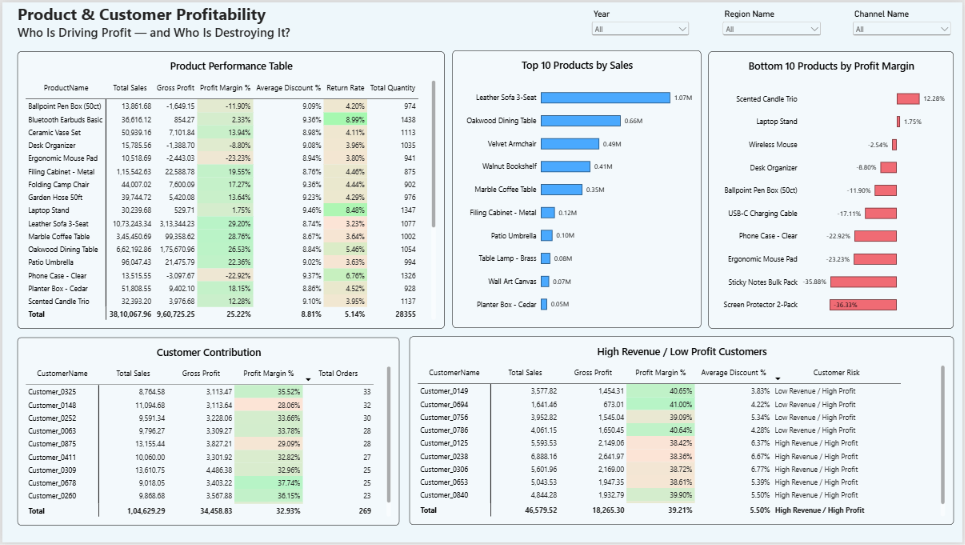

The dashboard page shown, as its layout file describes it:
{"tool":"powerbi","page":{"name":"Page 3","canvas":[1920,1080],"ordinal":2},"visuals":[{"type":"pivotTable","title":"Product Performance Table","fields":{"Rows":["Dim_Product.ProductName"],"Values":["_measure.Total Sales","_measure.Gross Profit","_measure.Profit Margin %","_measure.Average Discount %","_measure.Return Rate","_measure.Total Quantity"]},"box":[30,98,854,554],"z":0},{"type":"barChart","title":"Bottom 10 Products by Profit Margin","fields":{"Category":["Dim_Product.ProductName"],"Y":["_measure.Profit Margin %"]},"box":[1412,98,490,554],"z":1000},{"type":"barChart","title":"Top 10 Products by Sales","fields":{"Category":["Dim_Product.ProductName"],"Y":["_measure.Total Sales"]},"box":[900,96,497.5,555],"z":2000},{"type":"pivotTable","title":"Customer Contribution","fields":{"Rows":["Dim_Customer.CustomerName"],"Values":["_measure.Total Sales","_measure.Gross Profit","_measure.Profit Margin %","_measure.Total Orders"]},"box":[30,670,764.3,375.7],"z":3000},{"type":"pivotTable","title":"High Revenue / Low Profit Customers","fields":{"Rows":["Dim_Customer.CustomerName"],"Values":["_measure.Total Sales","_measure.Gross Profit","_measure.Profit Margin %","_measure.Average Discount %","_measure.Customer Risk"]},"box":[814.3,668.6,1088.6,377.1],"z":4000},{"type":"textbox","box":[30,0,870,84],"z":5000},{"type":"slicer","title":"Year","fields":{"Values":["DateTable.Date.Variation.Date Hierarchy.Year"]},"box":[1174,12,204,72],"z":6000},{"type":"slicer","fields":{"Values":["Dim_Region.RegionName"]},"box":[1435,12,206,62],"z":7000},{"type":"slicer","fields":{"Values":["Dim_Channel.ChannelName"]},"box":[1696,12,206,62],"z":8000}]}

Visuals, with their boxes in screenshot pixels (x1, y1, x2, y2), scaled from the page's 1920x1080 canvas onto the 965x545 screenshot:
"Product Performance Table" pivotTable: <region>15, 49, 444, 329</region>
"Bottom 10 Products by Profit Margin" barChart: <region>710, 49, 956, 329</region>
"Top 10 Products by Sales" barChart: <region>452, 48, 702, 329</region>
"Customer Contribution" pivotTable: <region>15, 338, 399, 528</region>
"High Revenue / Low Profit Customers" pivotTable: <region>409, 337, 956, 528</region>
textbox: <region>15, 0, 452, 42</region>
"Year" slicer: <region>590, 6, 693, 42</region>
slicer - Dim_Region.RegionName: <region>721, 6, 825, 37</region>
slicer - Dim_Channel.ChannelName: <region>852, 6, 956, 37</region>
